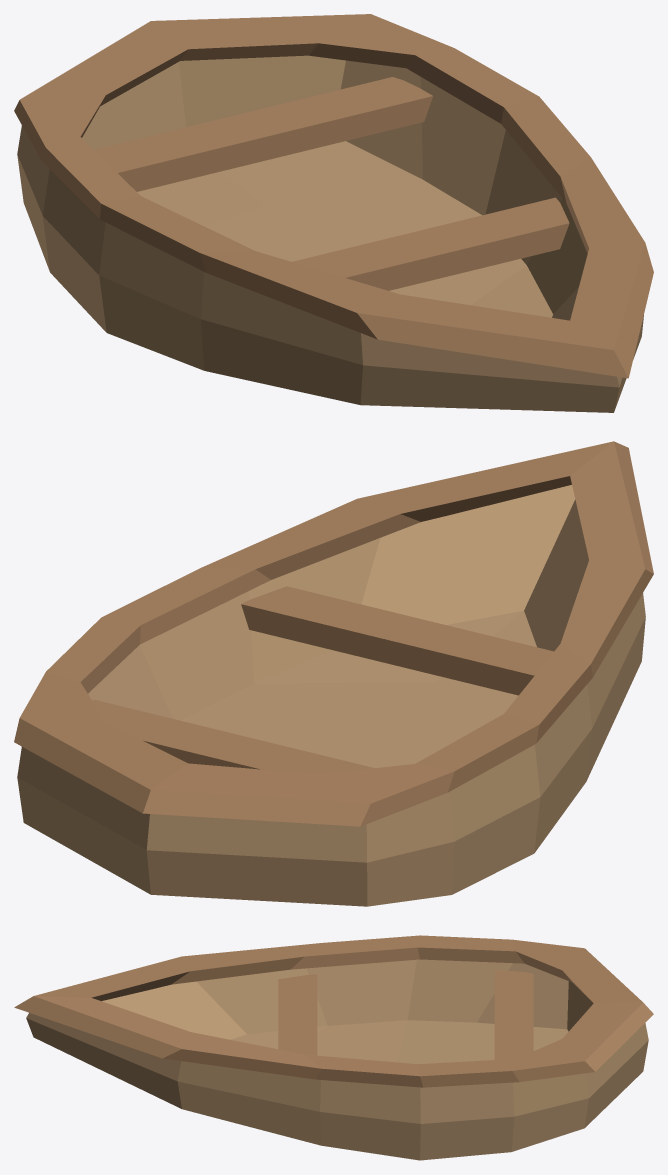
File: Gemi1.fbx
3 views of the same model, one above another, from view 1: azimuth 30°, elevation 25°; view 2: azimuth 150°, elevation 25°; view 3: azimuth 270°, elevation 25° (orthographic). The views are drawn at different scales.
Visible parts, largest first — view 1: Cube.011; view 2: Cube.011; view 3: Cube.011.
Boxes of the visible parts, left/top/right/bottom form: Cube.011: left=14, top=14, right=653, bottom=412; Cube.011: left=14, top=441, right=653, bottom=906; Cube.011: left=14, top=935, right=653, bottom=1160.
Size of the model in its own units: 251 by 101 by 479.
